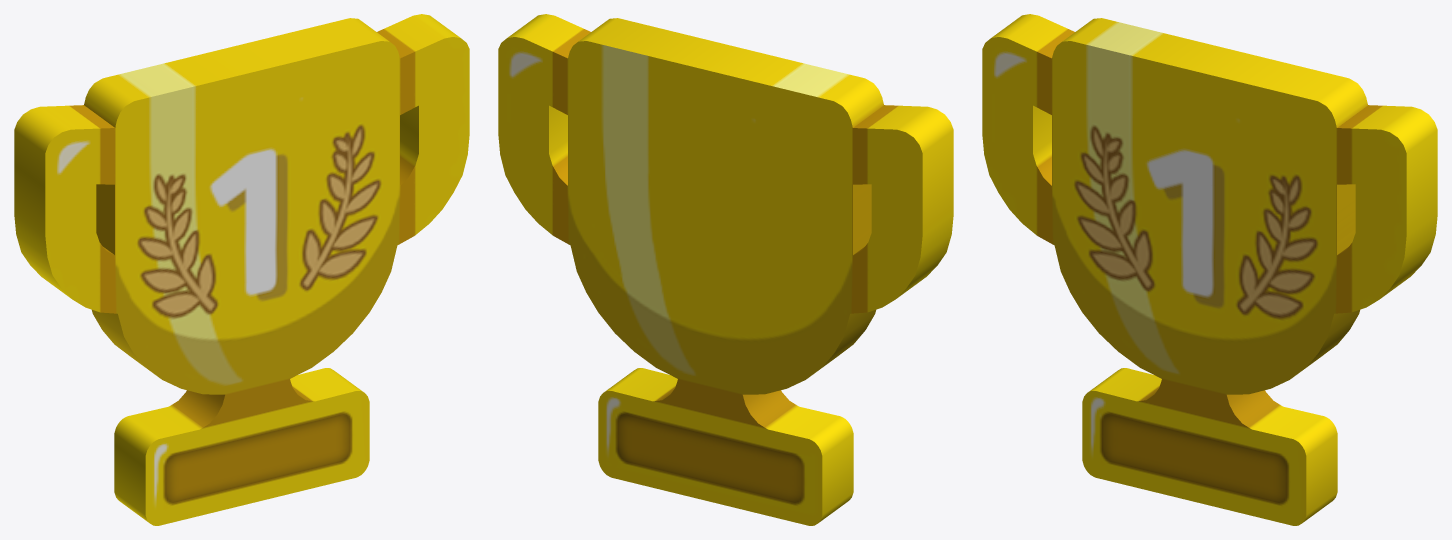
The model's file is RankingTrophy.FBX.
3 views of the same model, side by side, from view 1: azimuth 30°, elevation 25°; view 2: azimuth 150°, elevation 25°; view 3: azimuth 330°, elevation 25° (orthographic).
Parts seen in each view (by area): view 1: RankingTrophy; view 2: RankingTrophy; view 3: RankingTrophy.
Part boxes in pixels (x1,y1,x2,y2): RankingTrophy: (14, 14, 469, 525); RankingTrophy: (498, 14, 953, 525); RankingTrophy: (982, 14, 1437, 525).
Bounding box in the file's own units: 9.24 × 8.96 × 1.18.
